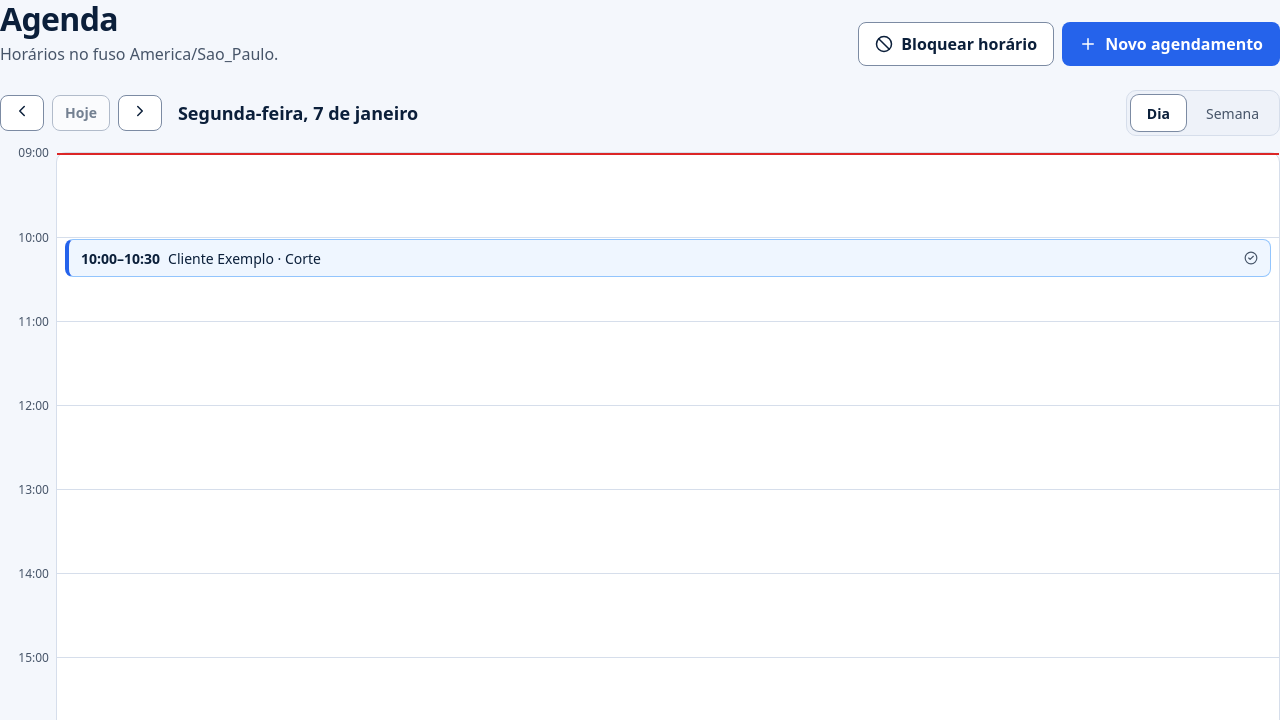
AgendaPage › mostra o conflito vindo do banco
Expected: the text "Cliente Exemplo · Corte" is shown, [168,248,321,269]
Click the button "Novo agendamento".
click(1171, 44)  # box [1062,22,1279,66]
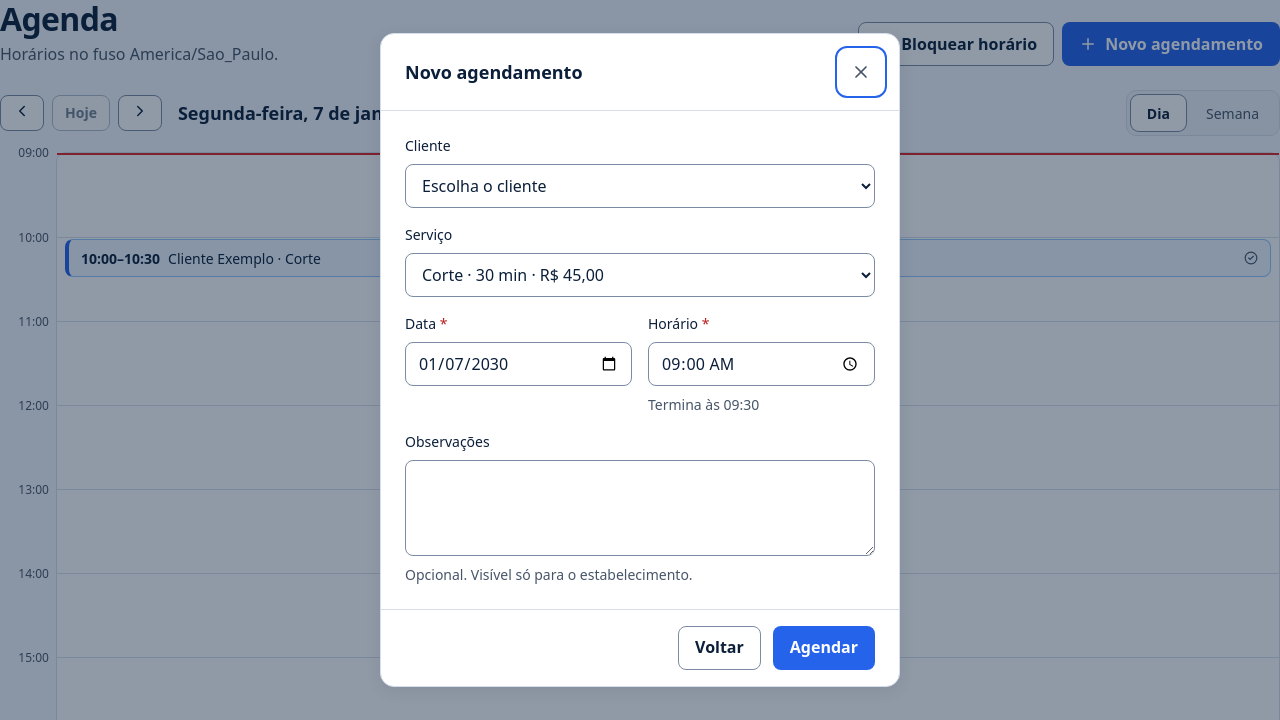
Select "Cliente Exemplo · (11) 98765-4321" in the dropdown labelled "Cliente" at [640, 186], box [405,164,875,208]
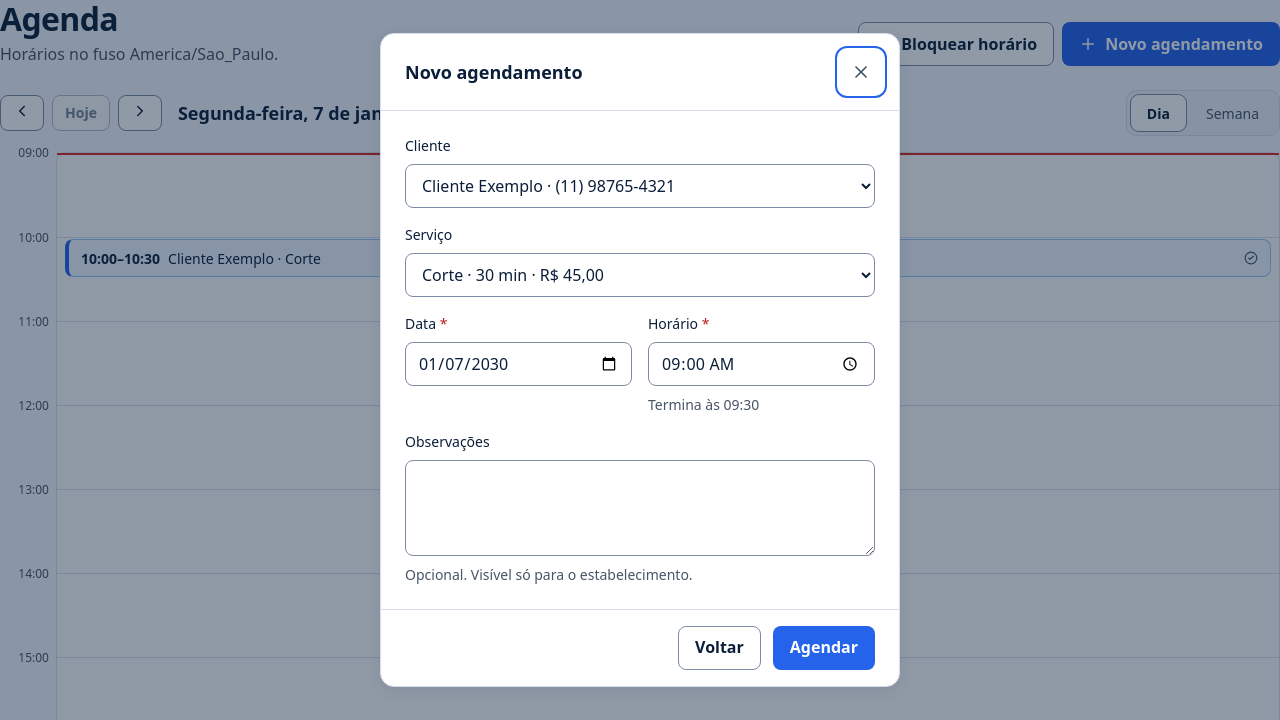
Replace the text in the time field labelled "Horário *" with "10:00" at [762, 364], box [648,342,875,386]
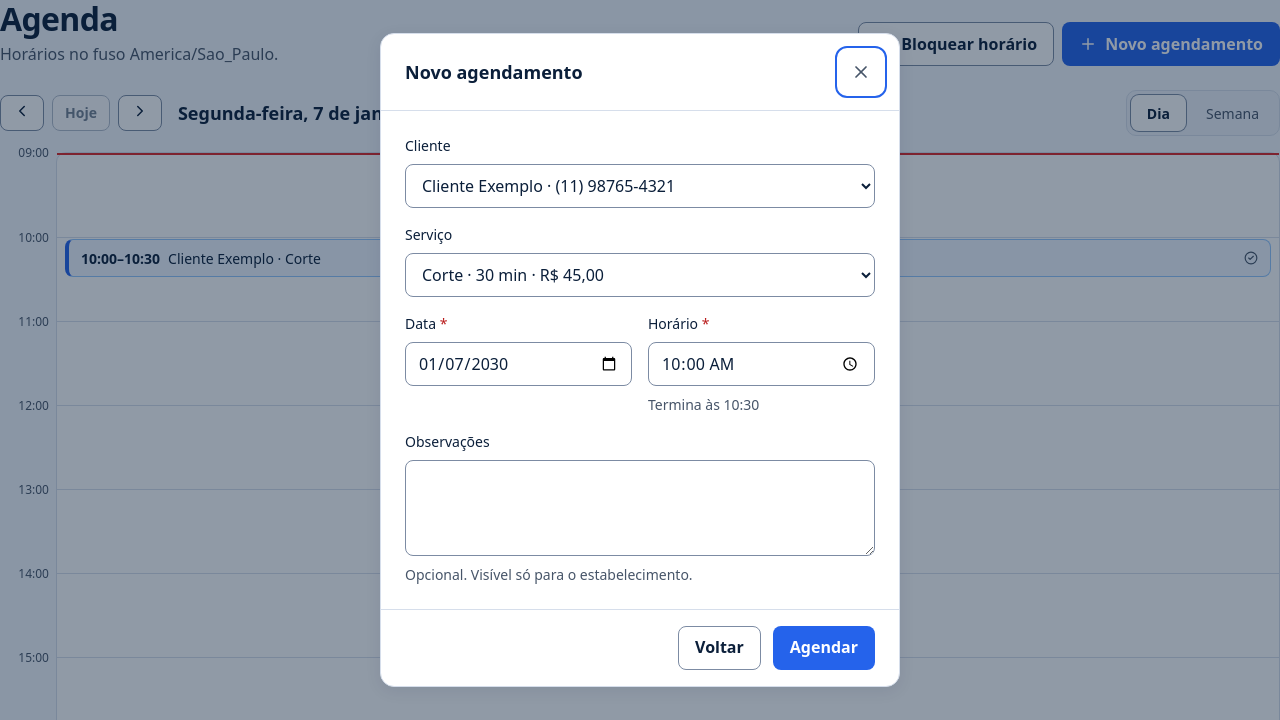
Click the button "Agendar".
click(824, 648)  # box [773,626,875,670]
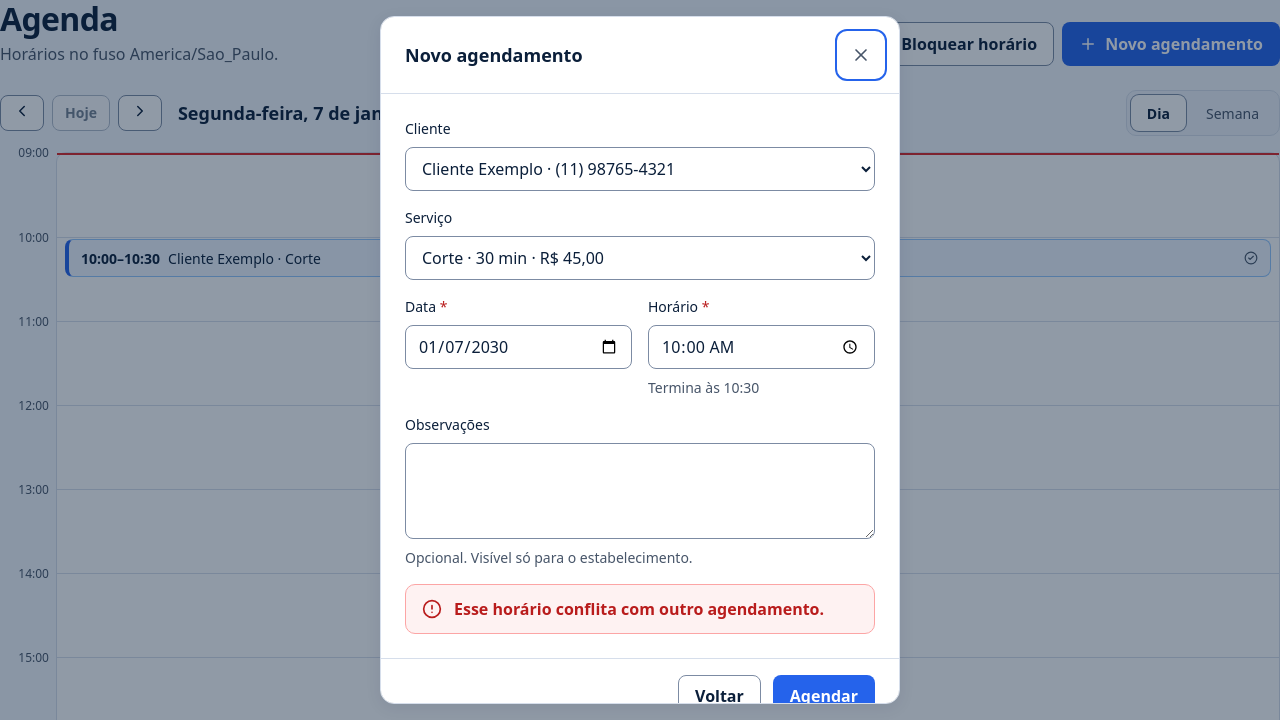
Result: the message shows "conflita" at [454,598,824,620]
